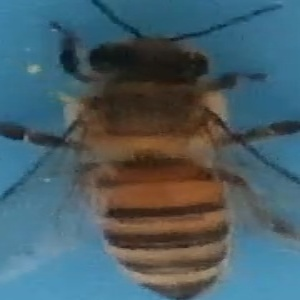bee: (5, 5, 292, 299)
